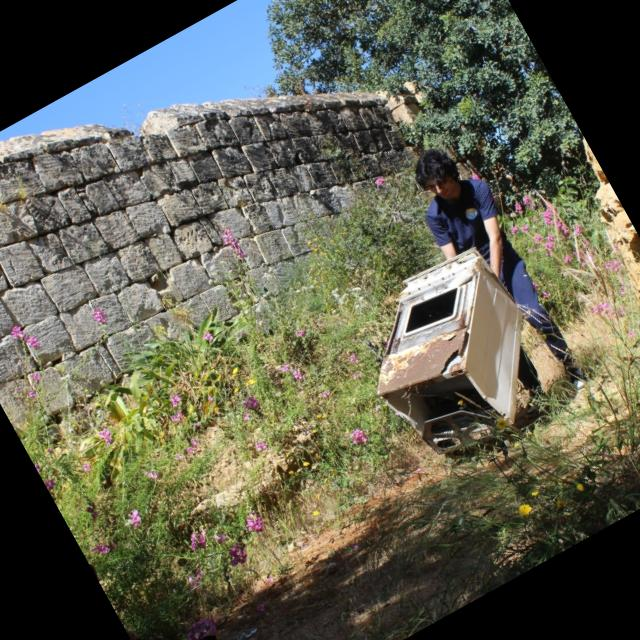Other litter: (376, 246, 523, 454)
